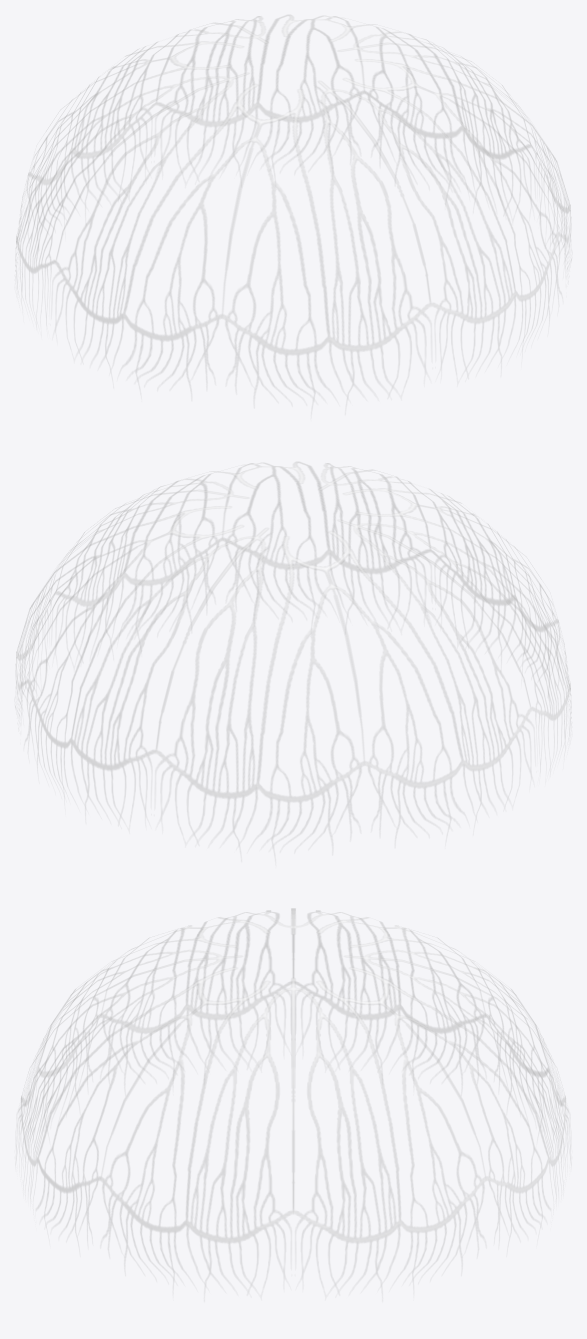
File: jellyfish-bell.glb
3 renders of one model, top to bottom at view 1: azimuth 30°, elevation 25°; view 2: azimuth 150°, elevation 25°; view 3: azimuth 270°, elevation 25°, orthographic.
Visible parts, largest first — view 1: Object_7; view 2: Object_7; view 3: Object_7.
Boxes of the visible parts, box(x1,y1,x2,y2) form: Object_7: box(15, 14, 571, 398); Object_7: box(15, 461, 571, 845); Object_7: box(18, 908, 568, 1284).
Bounding box in the file's own units: 2 × 1.02 × 2.
Materials: 1 (1 with a texture image).
